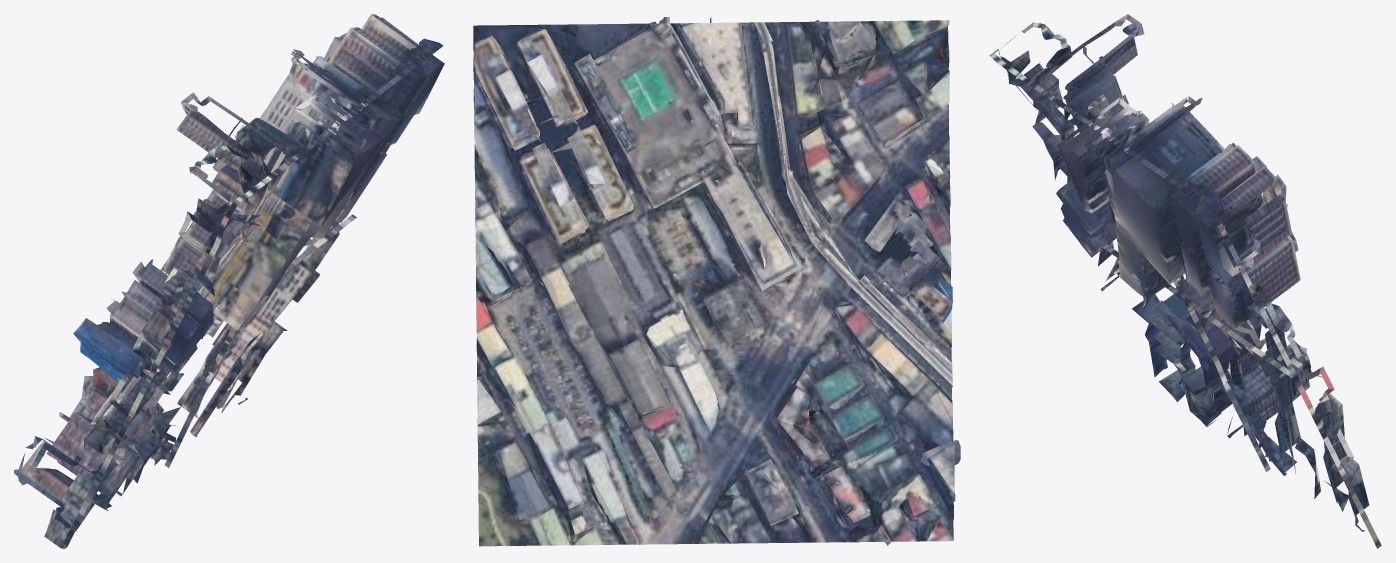
The picture shows the model from 3 angles, left to right: view 1: azimuth 30°, elevation 25°; view 2: azimuth 150°, elevation 25°; view 3: azimuth 270°, elevation 25°; orthographic projection. The views are drawn at different scales.
Bounding box in the file's own units: 325 × 312 × 256.
1 material, 1 textured.
